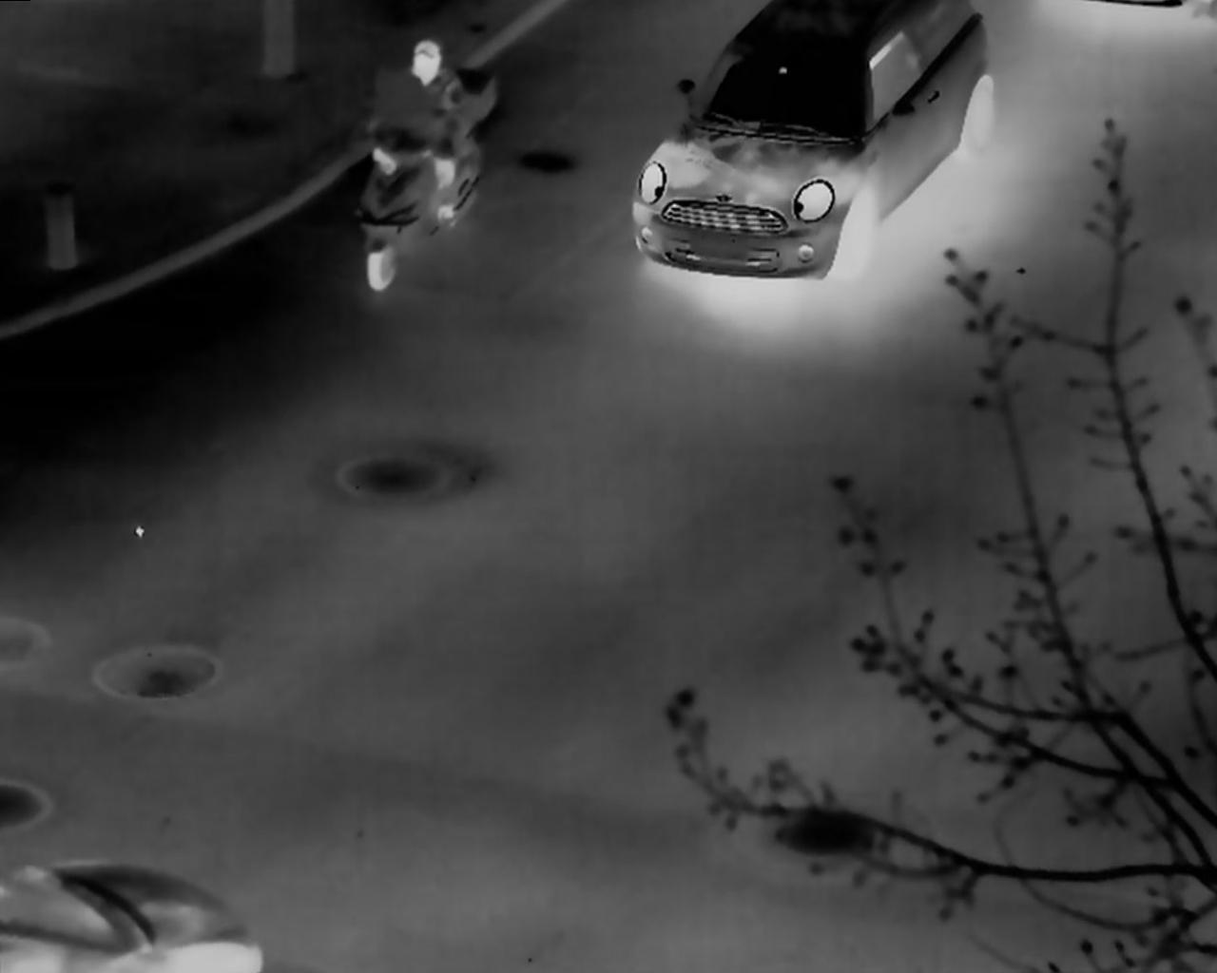person: (377, 35, 466, 249)
